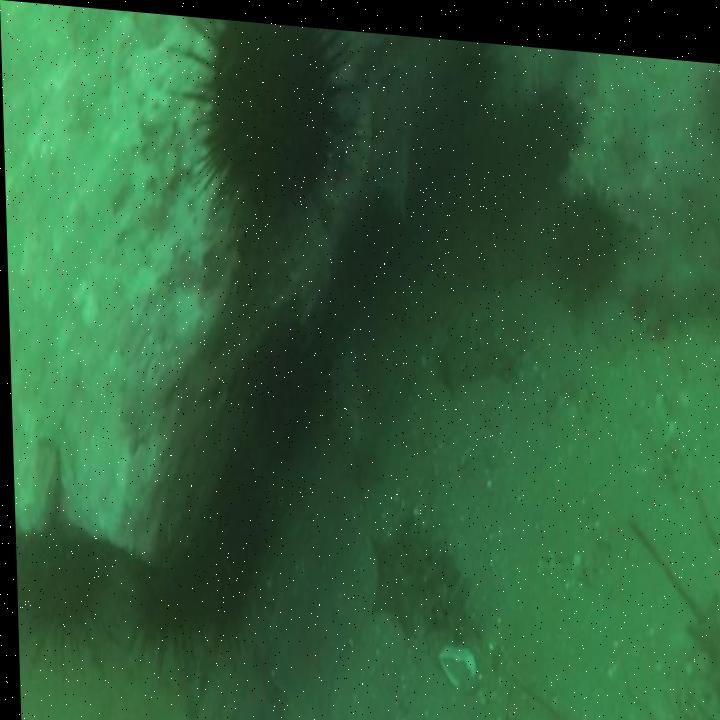echinus: (203, 19, 335, 201), (554, 188, 623, 314), (17, 541, 99, 646), (249, 328, 318, 452), (509, 71, 580, 183), (128, 561, 202, 642), (212, 464, 266, 567)
holothurian: (320, 326, 375, 467), (562, 66, 623, 188)
starfish: (371, 520, 427, 626)
